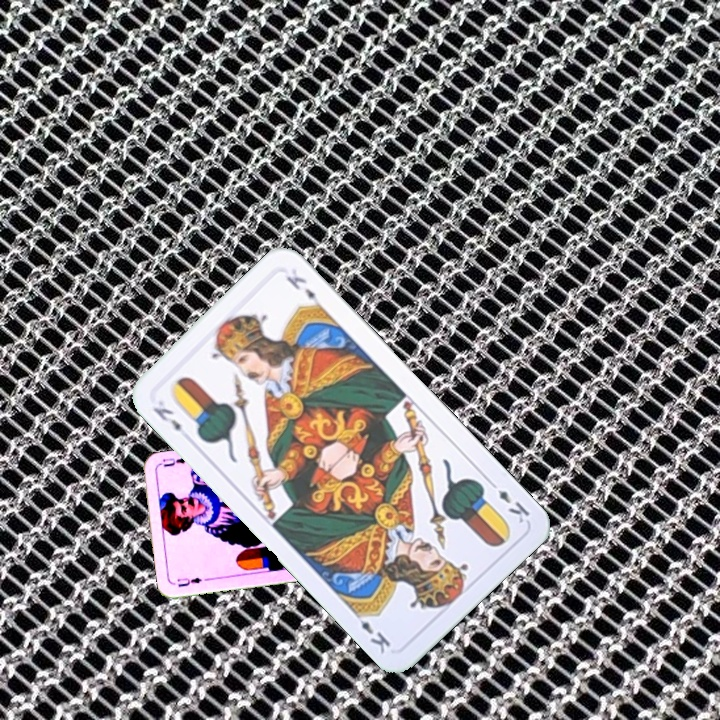EK: (484, 475, 532, 526), (148, 402, 184, 435)
EU: (173, 573, 204, 590)
